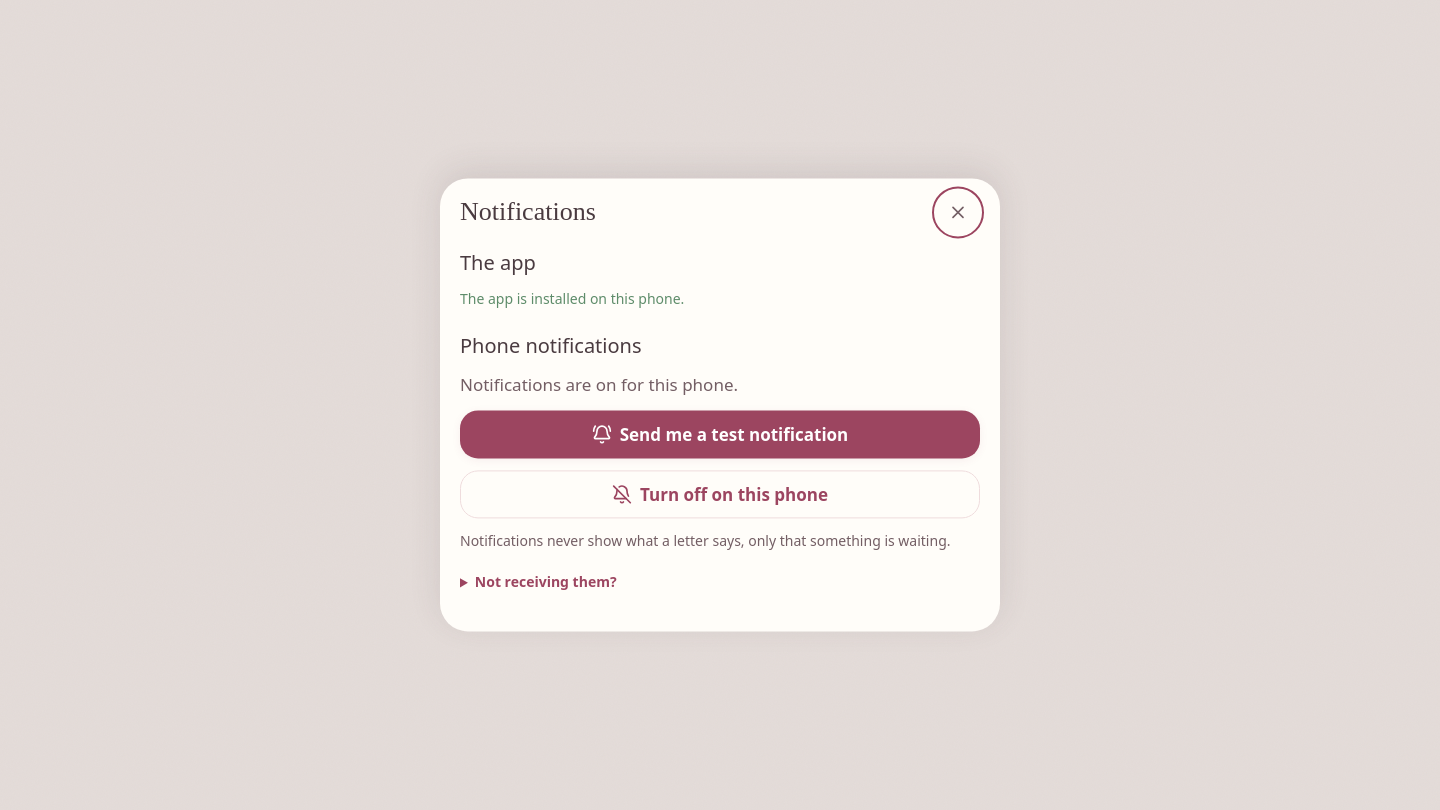
it: NotificationsSheet diagnostics › reports success in plain words
This screenshot has width=1440, height=810.
Click the button "Send me a test notification". click: (720, 435)
box: [460,411,980,459]
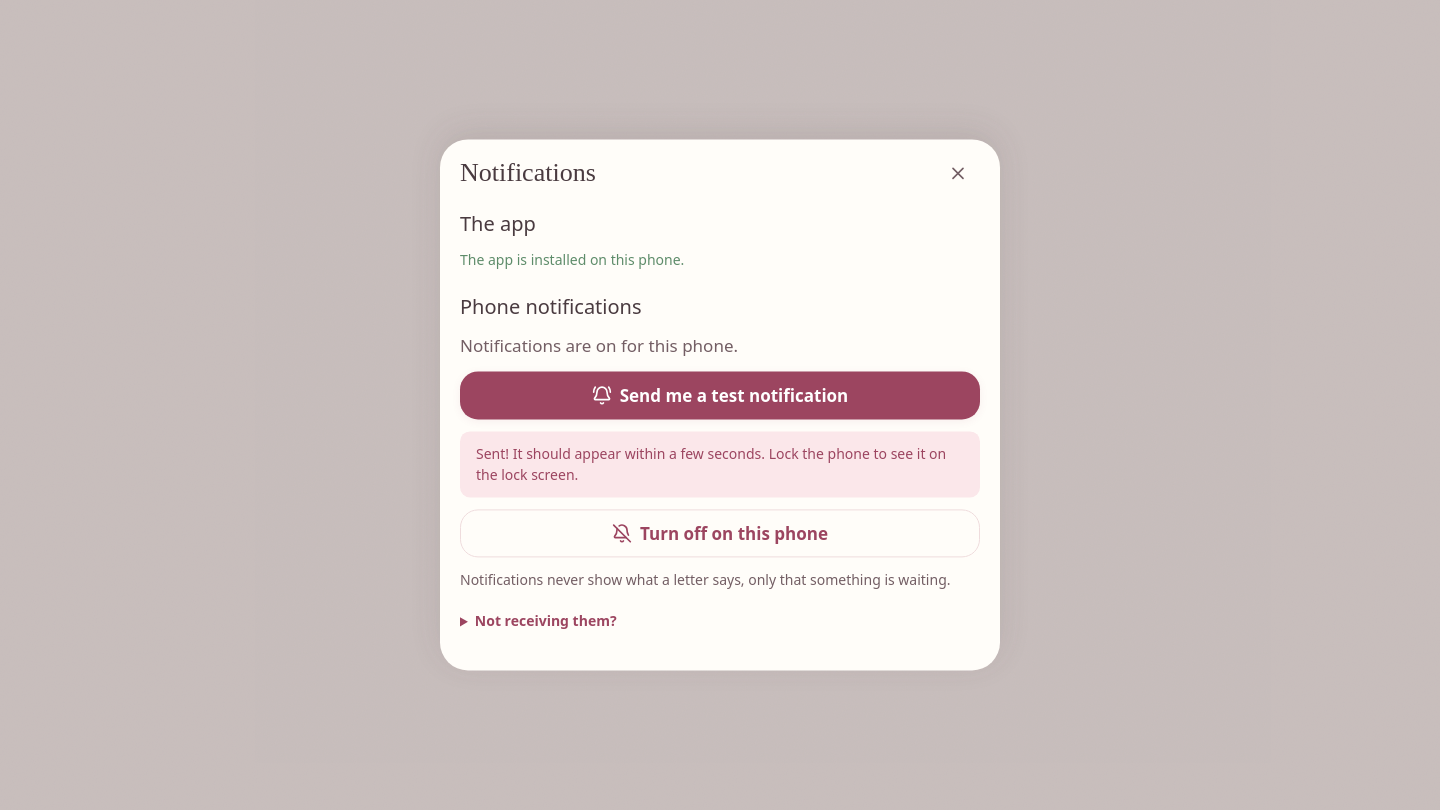
Expected: the text "Sent! It should appear within a few seconds" is shown, [476,445,946,485]
